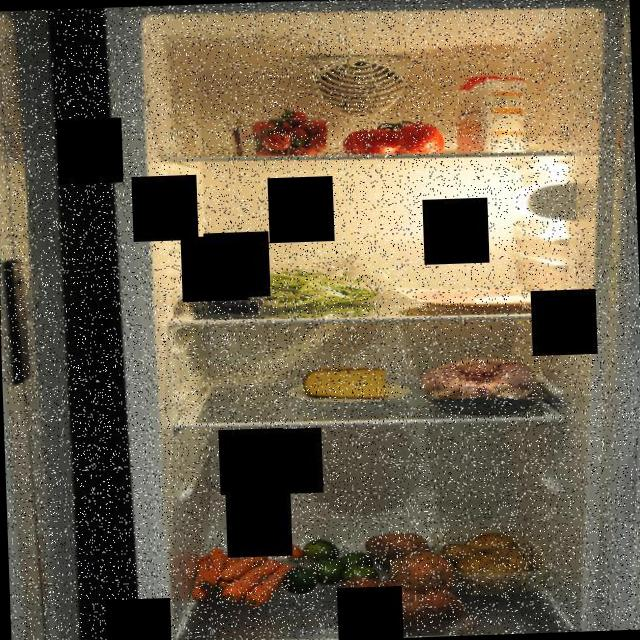Carne cerdo: (397, 278, 560, 314)
Carne pollo: (418, 354, 548, 416)
Patata: (442, 526, 550, 592)
Queso: (297, 360, 388, 404)
Tomate: (340, 113, 446, 161)
Zanahoria: (183, 526, 307, 610)
